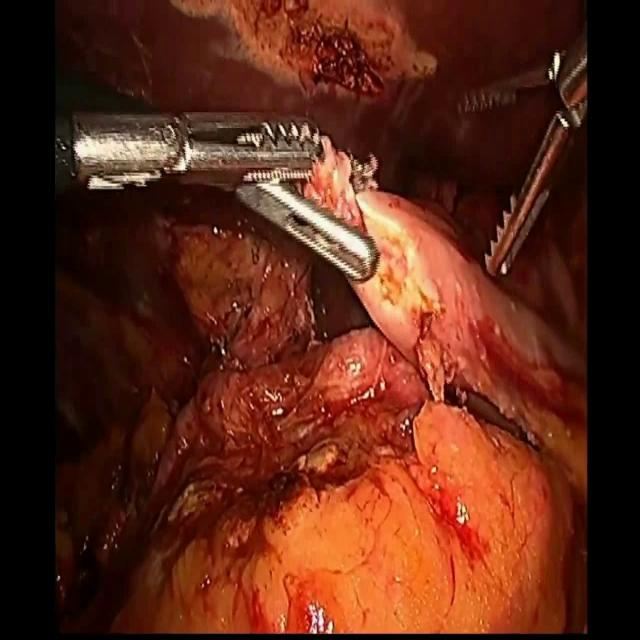surgical-area: (54, 0, 586, 632)
surgical-tool: (54, 108, 379, 281), (458, 20, 586, 278)
